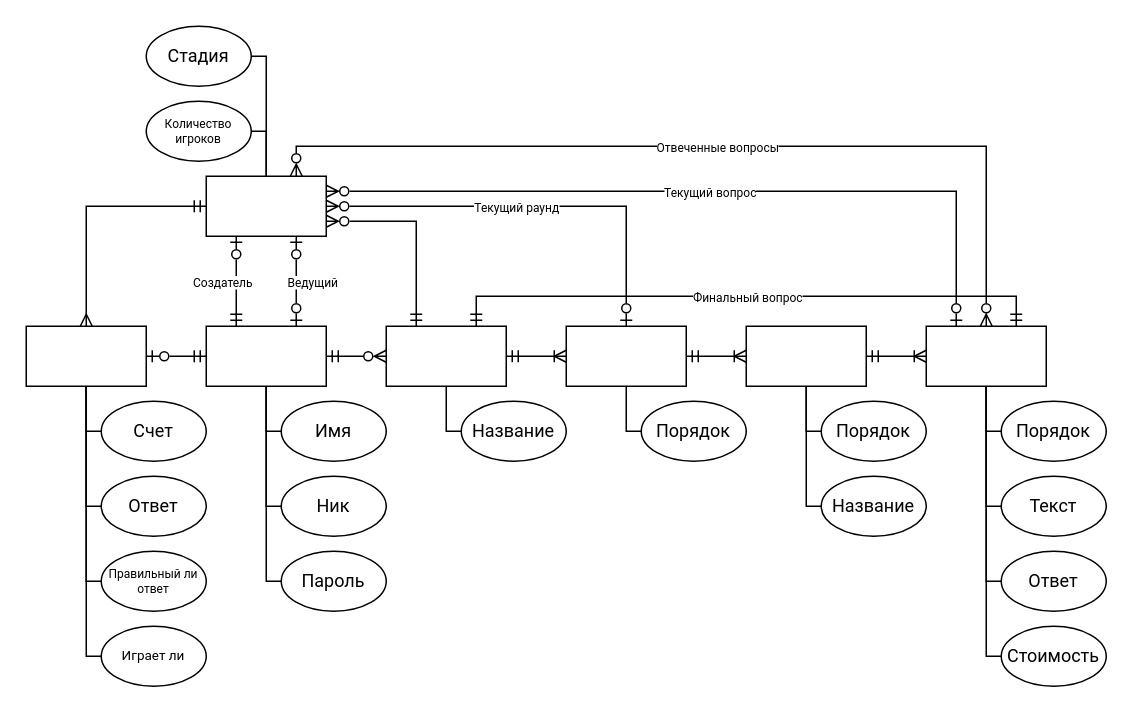
The diagram is 1133 pixels wide and 713 high, and some of its shapes have lost their labels. Each missing label, with the box of its shape:
Вопрос: (925, 325, 1046, 386)
Игра: (385, 325, 506, 386)
Игровая сессия: (205, 175, 326, 236)
Игрок: (25, 325, 146, 386)
Пользователь: (205, 325, 326, 386)
Раунд: (565, 325, 686, 386)
Тема: (745, 325, 866, 386)
